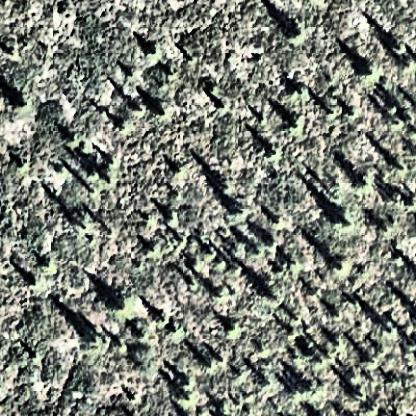tree-top: (80, 328, 109, 357), (330, 208, 358, 233), (293, 377, 317, 403), (355, 59, 379, 83), (148, 99, 171, 123), (106, 294, 128, 317), (285, 111, 307, 134), (100, 150, 122, 172), (284, 24, 306, 44), (392, 37, 411, 60), (329, 256, 349, 277), (178, 372, 199, 392), (355, 173, 373, 196), (232, 206, 252, 226), (224, 320, 242, 340), (85, 166, 103, 186), (142, 241, 161, 259), (16, 97, 34, 115), (292, 85, 311, 102), (365, 354, 381, 373), (262, 237, 279, 254), (267, 146, 284, 163), (384, 102, 402, 118), (133, 323, 151, 339), (170, 323, 185, 340), (270, 291, 285, 307), (29, 275, 43, 291), (167, 213, 181, 229), (149, 45, 164, 59), (222, 184, 235, 198)
